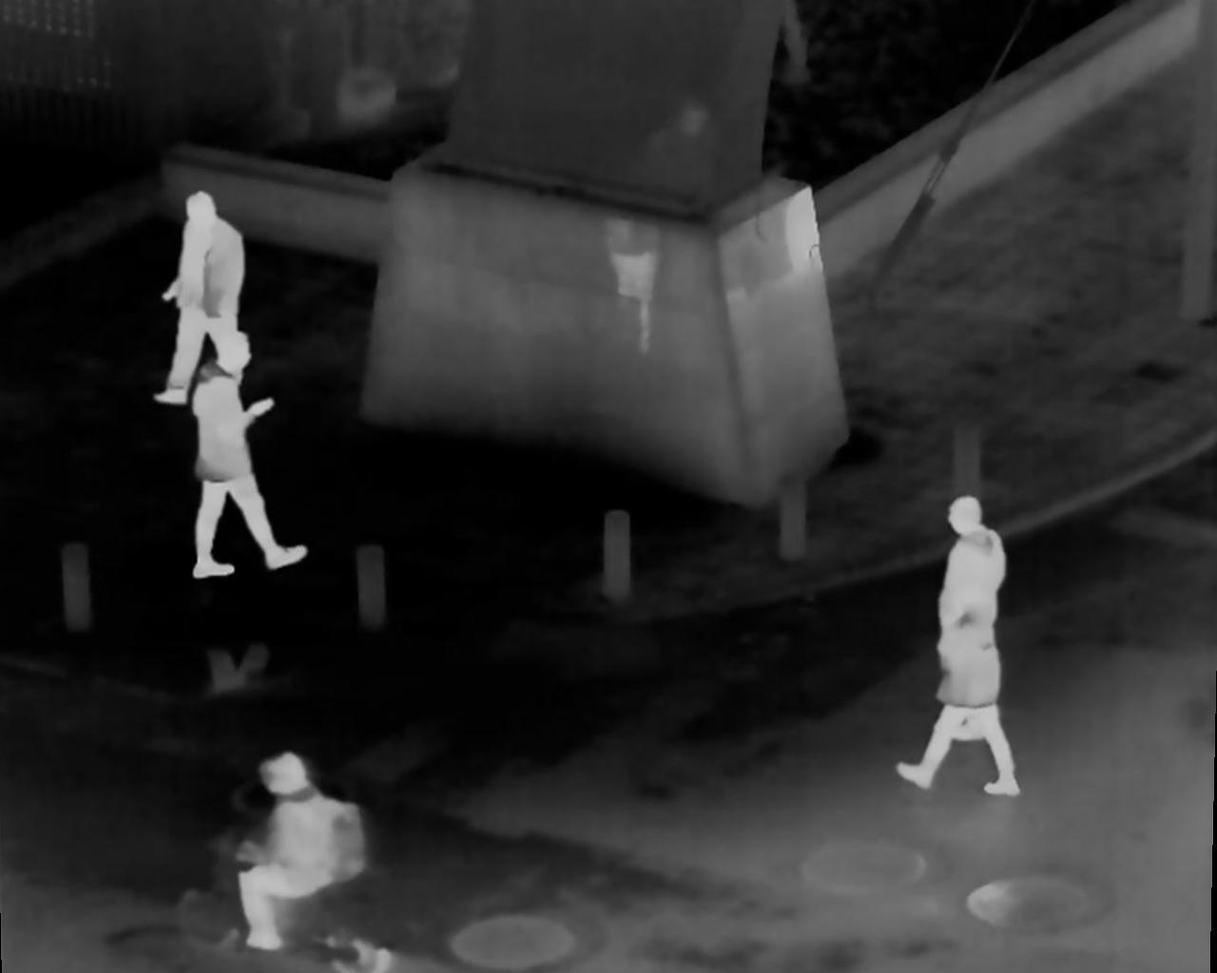person: (191, 337, 308, 590), (896, 579, 1026, 801), (229, 759, 362, 957), (160, 185, 243, 410), (940, 494, 1008, 676)
